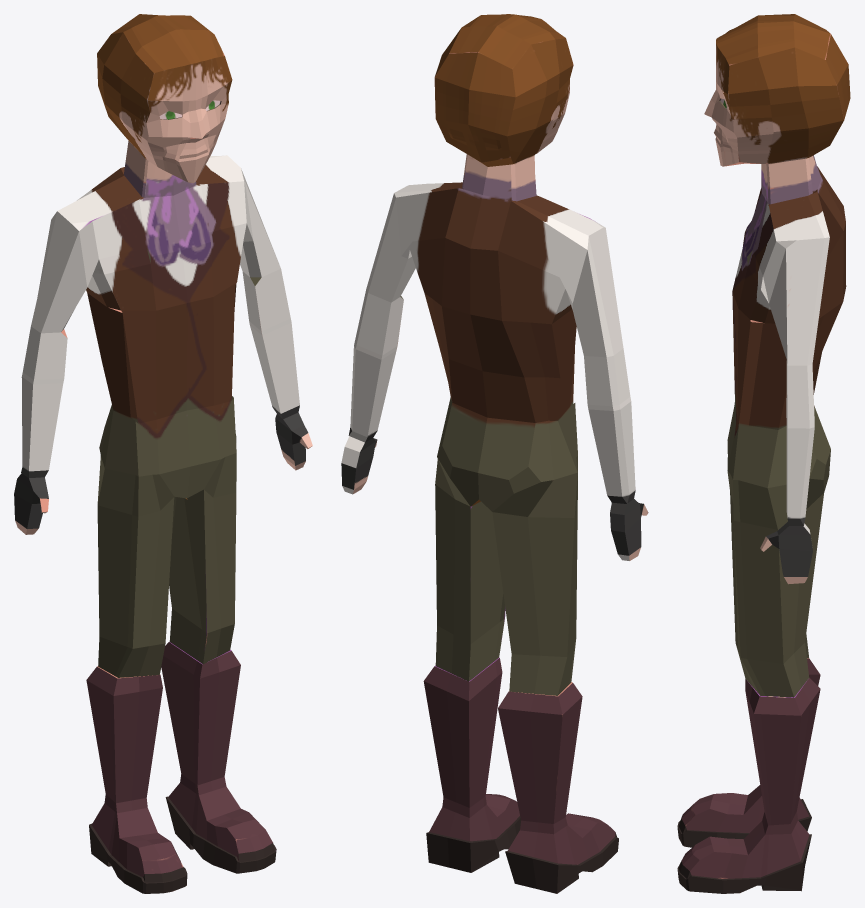
3 views of the same model, side by side, from view 1: azimuth 30°, elevation 25°; view 2: azimuth 150°, elevation 25°; view 3: azimuth 270°, elevation 25° (orthographic). The views are drawn at different scales.
Visible parts, largest first — view 1: Cube; view 2: Cube; view 3: Cube.
Part boxes in pixels (x1,y1,x2,y2): Cube: [14, 14, 312, 893]; Cube: [341, 14, 648, 893]; Cube: [677, 14, 850, 893].
Bounding box in the file's own units: 4.83 × 13.68 × 2.56.
Materials: 1 (1 with a texture image).
